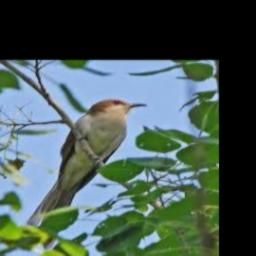Cuckoo: (25, 99, 148, 248)
